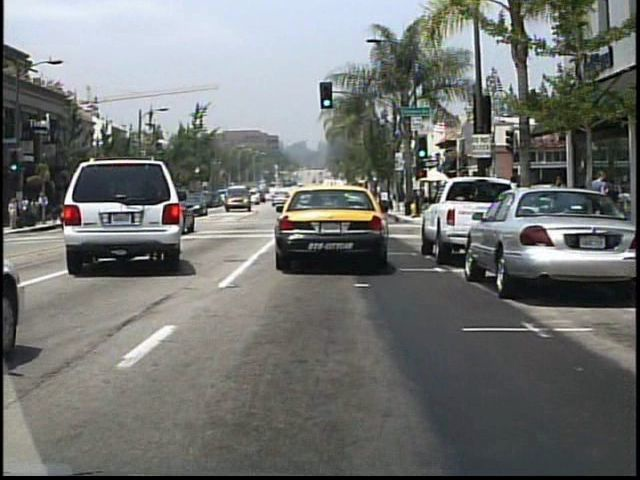person: (549, 174, 572, 236), (590, 170, 610, 232), (8, 195, 22, 231), (38, 191, 50, 223)
